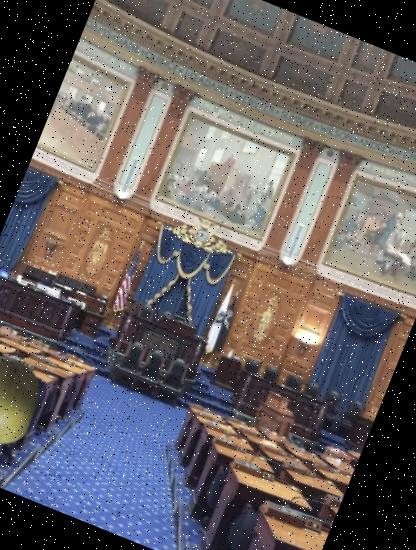Pomelo: (0, 342, 59, 459)
